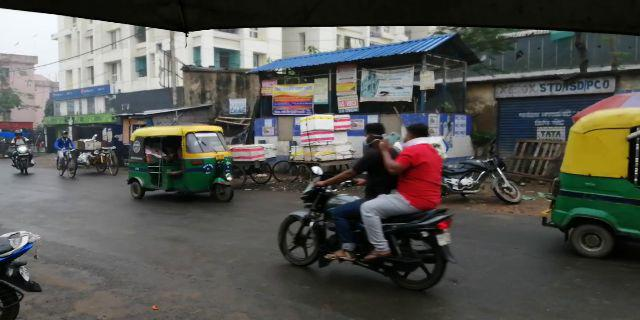Autorickshaw: (547, 107, 640, 261), (125, 125, 235, 201)
Motorbike: (276, 121, 454, 283)
